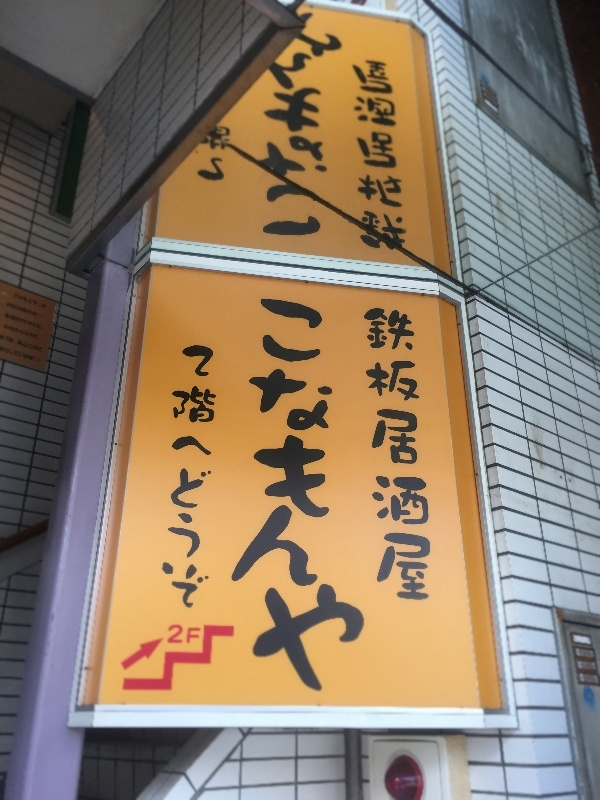text: (225, 292, 240, 697), (241, 292, 256, 697), (257, 292, 272, 697), (273, 292, 288, 697), (289, 292, 304, 697), (305, 292, 320, 697), (321, 292, 336, 697), (337, 292, 352, 697), (353, 292, 368, 697), (369, 307, 384, 606), (385, 307, 400, 606), (401, 307, 416, 606), (417, 307, 432, 606), (177, 343, 192, 611), (193, 343, 208, 611), (273, 1, 288, 238), (289, 1, 304, 238), (305, 1, 320, 238), (321, 1, 336, 238), (353, 58, 368, 253), (369, 58, 384, 253), (385, 58, 400, 253), (369, 292, 376, 697), (209, 343, 219, 611), (337, 1, 348, 238), (193, 117, 208, 196), (209, 117, 224, 196), (225, 117, 240, 196), (401, 58, 407, 253), (365, 307, 368, 606), (223, 292, 224, 697), (177, 623, 192, 648), (193, 623, 202, 648), (169, 623, 176, 648), (241, 117, 243, 196)
